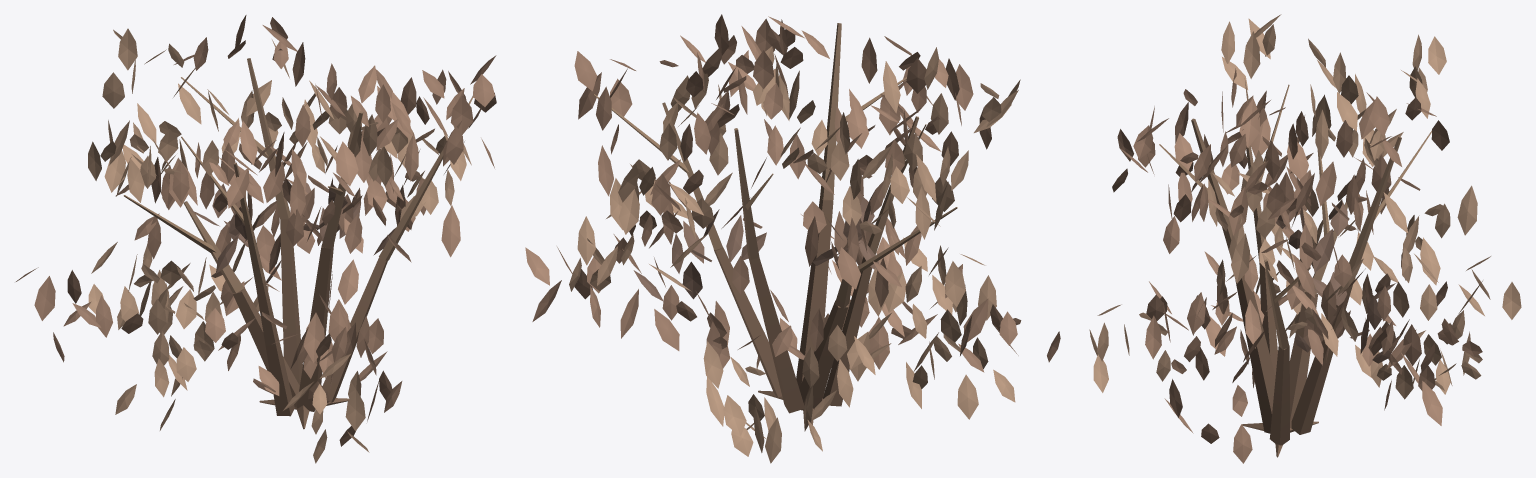
The model's file is bush_3d_03_copper.glb.
3 renders of one model, left to right at view 1: azimuth 30°, elevation 25°; view 2: azimuth 150°, elevation 25°; view 3: azimuth 270°, elevation 25°, orthographic. The views are drawn at different scales.
Visible parts, largest first — view 1: bush_3d_03_copper_foliage, bush_3d_03_copper_wood; view 2: bush_3d_03_copper_foliage, bush_3d_03_copper_wood; view 3: bush_3d_03_copper_foliage, bush_3d_03_copper_wood.
Part boxes in pixels (x1,y1,x2,y2): bush_3d_03_copper_foliage: [16, 15, 496, 463]; bush_3d_03_copper_wood: [123, 58, 473, 429]; bush_3d_03_copper_foliage: [525, 14, 1060, 463]; bush_3d_03_copper_wood: [593, 23, 957, 424]; bush_3d_03_copper_foliage: [1089, 14, 1521, 463]; bush_3d_03_copper_wood: [1159, 84, 1431, 457].
Size of the model in its own units: 2.6 by 2 by 2.2.
